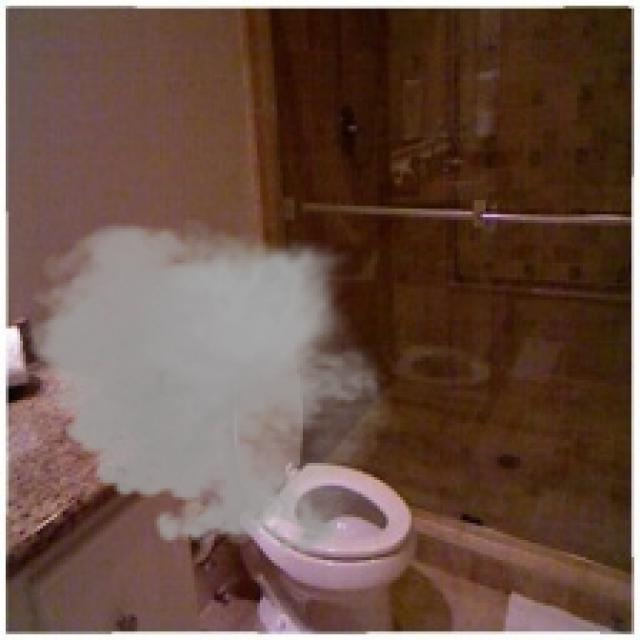Smoke: (14, 211, 403, 566)
